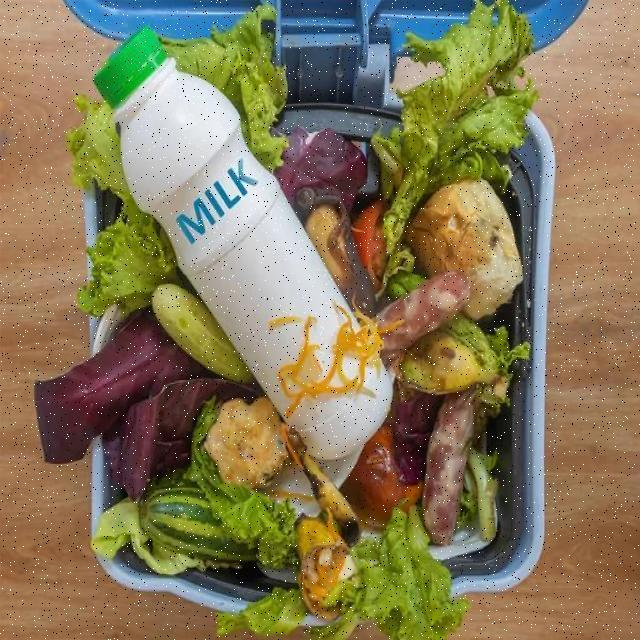Garbage: (28, 0, 549, 640)
Plastic_bottle: (95, 30, 391, 459)
contaminated_waste: (90, 20, 409, 472)
